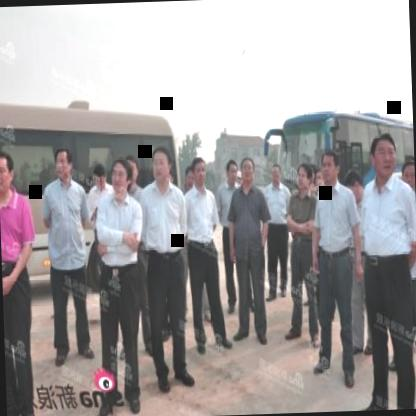head: (368, 132, 399, 180), (150, 144, 174, 188), (109, 158, 133, 200), (320, 146, 342, 188), (342, 166, 366, 204), (52, 146, 76, 184), (0, 146, 16, 197), (238, 156, 258, 192), (295, 158, 313, 196), (192, 154, 210, 190), (124, 152, 141, 188), (400, 160, 416, 198), (91, 164, 108, 194), (223, 158, 240, 186), (180, 164, 196, 192), (270, 161, 284, 189)
